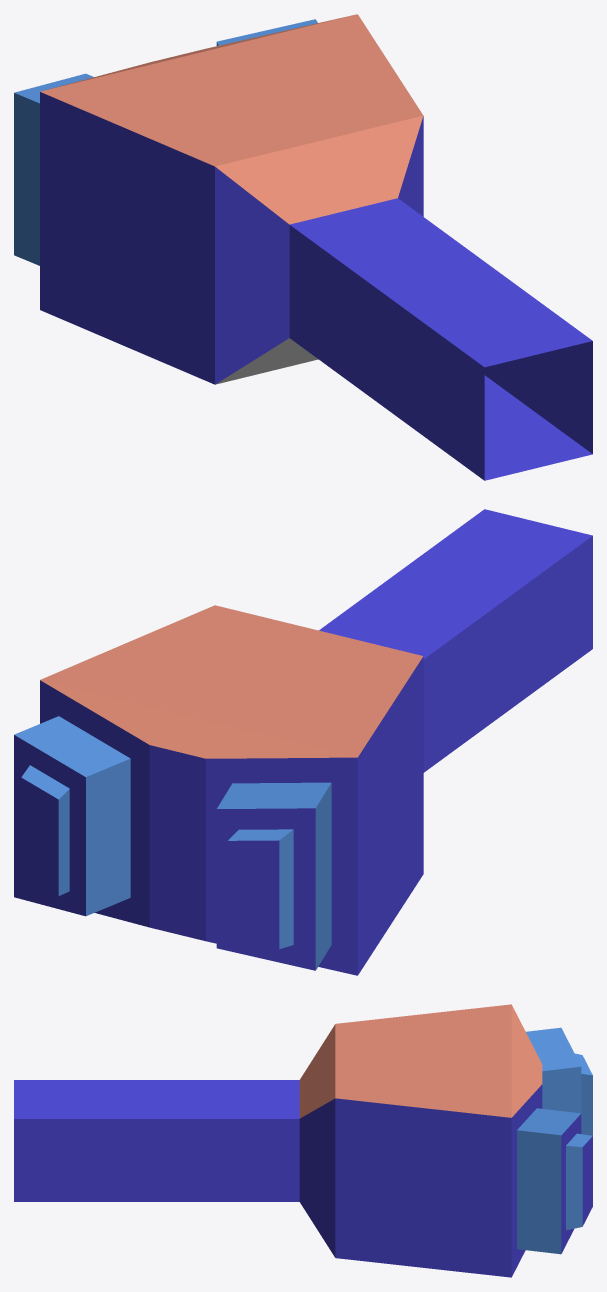
The model's file is about.004.glb.
The picture shows the model from 3 angles, top to bottom: view 1: azimuth 30°, elevation 25°; view 2: azimuth 150°, elevation 25°; view 3: azimuth 270°, elevation 25°; orthographic projection. The views are drawn at different scales.
Parts seen in each view (by area): view 1: Cube; view 2: Cube; view 3: Cube.
Part boxes in pixels (box(x1,y1,x2,y2)): Cube: box(14, 14, 592, 480); Cube: box(14, 509, 592, 975); Cube: box(14, 1004, 592, 1277).
Size of the model in its own units: 14.11 by 9.26 by 30.41.
